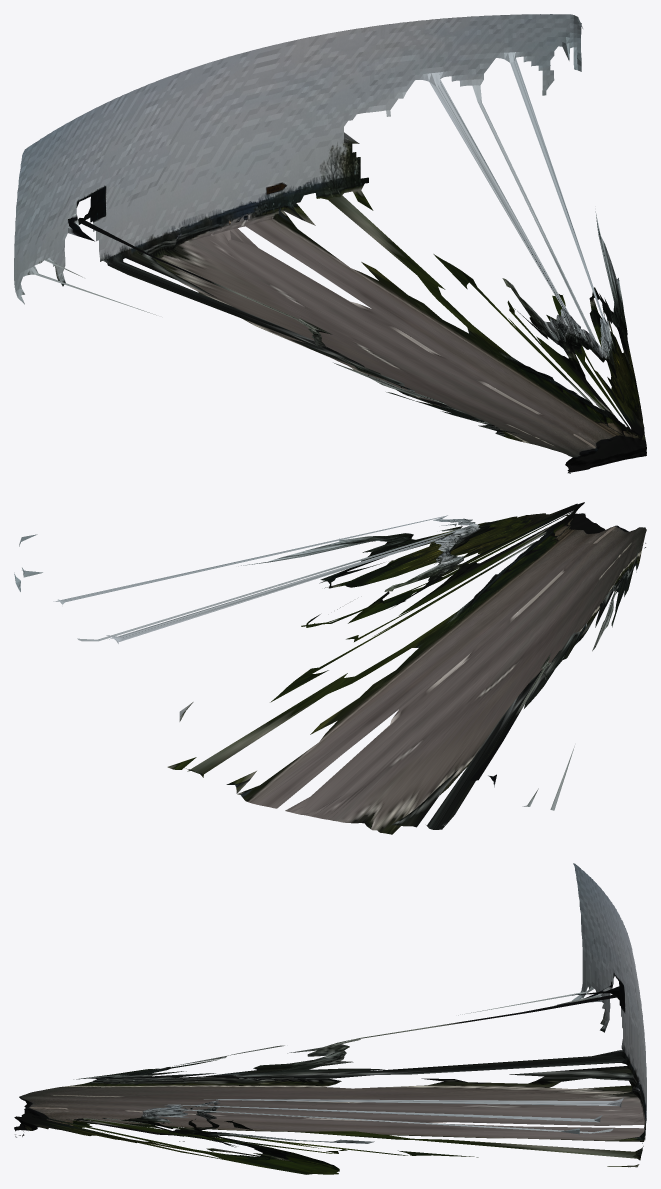
The picture shows the model from 3 angles, top to bottom: view 1: azimuth 30°, elevation 25°; view 2: azimuth 150°, elevation 25°; view 3: azimuth 270°, elevation 25°; orthographic projection. The views are drawn at different scales.
Parts seen in each view (by area): view 1: defaultobject; view 2: defaultobject; view 3: defaultobject.
Part boxes in pixels (<box>): defaultobject: <box>14,14,646,473</box>; defaultobject: <box>14,502,646,834</box>; defaultobject: <box>14,863,646,1174</box>.
Size of the model in its own units: 40.92 by 12.87 by 44.36.
Materials: 1 (1 with a texture image).
